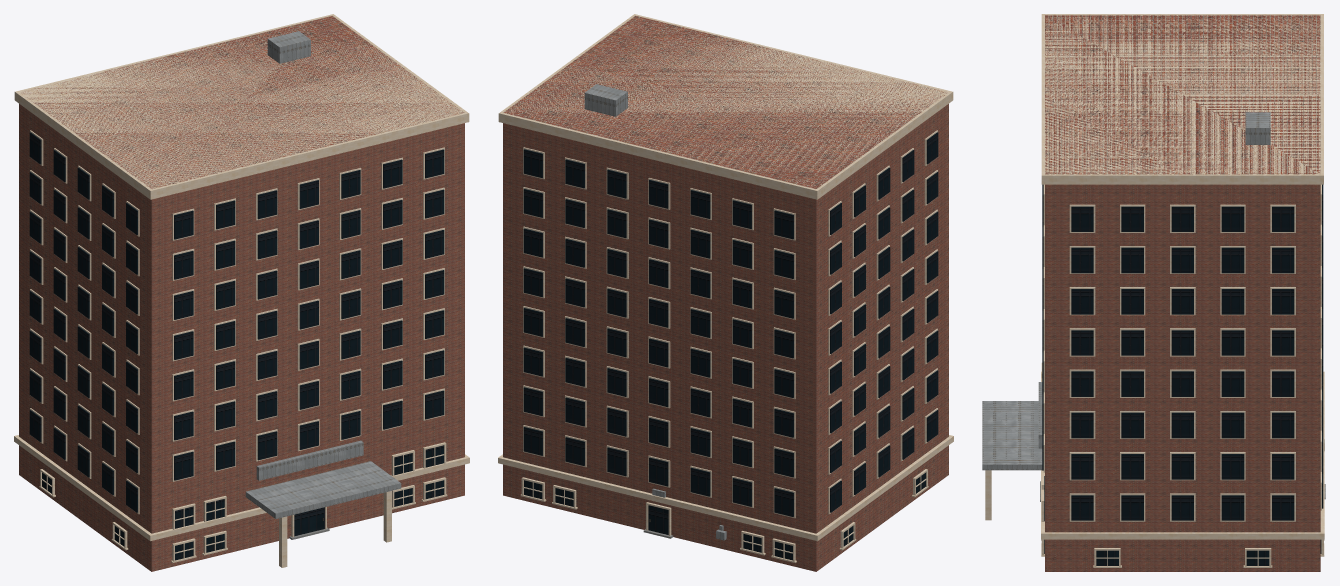
Rendered from larned-house-hotel_lod0.gltf.
3 views of the same model, side by side, from view 1: azimuth 30°, elevation 25°; view 2: azimuth 150°, elevation 25°; view 3: azimuth 270°, elevation 25° (orthographic). The views are drawn at different scales.
Visible parts, largest first — view 1: larned-house-hotel_main, larned-house-hotel__cornice, larned-house-hotel_fen_07-glass-curtain-blue_1_t, larned-house-hotel_fen_04-limestone_0, larned-house-hotel__porte_cochere, larned-house-hotel__trim_band, larned-house-hotel__sign_band, larned-house-hotel__hvac; view 2: larned-house-hotel_main, larned-house-hotel_fen_07-glass-curtain-blue_1_t, larned-house-hotel__cornice, larned-house-hotel_fen_04-limestone_0, larned-house-hotel__trim_band, larned-house-hotel__hvac; view 3: larned-house-hotel_main, larned-house-hotel__cornice, larned-house-hotel_fen_07-glass-curtain-blue_1_t, larned-house-hotel_fen_04-limestone_0, larned-house-hotel__porte_cochere, larned-house-hotel__trim_band, larned-house-hotel__hvac.
Boxes of the visible parts, x1,y1,x2,y2 form: larned-house-hotel_main: [19, 16, 464, 571]; larned-house-hotel__cornice: [14, 14, 469, 199]; larned-house-hotel_fen_07-glass-curtain-blue_1_t: [29, 132, 444, 560]; larned-house-hotel_fen_04-limestone_0: [30, 130, 447, 562]; larned-house-hotel__porte_cochere: [245, 461, 401, 518]; larned-house-hotel__trim_band: [14, 435, 469, 541]; larned-house-hotel__sign_band: [256, 440, 363, 480]; larned-house-hotel__hvac: [267, 31, 310, 63]; larned-house-hotel_main: [503, 16, 948, 571]; larned-house-hotel_fen_07-glass-curtain-blue_1_t: [523, 132, 938, 560]; larned-house-hotel__cornice: [498, 14, 953, 199]; larned-house-hotel_fen_04-limestone_0: [520, 130, 937, 562]; larned-house-hotel__trim_band: [498, 435, 953, 541]; larned-house-hotel__hvac: [584, 84, 627, 116]; larned-house-hotel_main: [1045, 15, 1320, 571]; larned-house-hotel__cornice: [1041, 14, 1323, 184]; larned-house-hotel_fen_07-glass-curtain-blue_1_t: [1042, 184, 1323, 565]; larned-house-hotel_fen_04-limestone_0: [1041, 184, 1324, 567]; larned-house-hotel__porte_cochere: [982, 401, 1042, 470]; larned-house-hotel__trim_band: [1041, 371, 1324, 539]; larned-house-hotel__hvac: [1245, 112, 1270, 144].
Bounding box in the file's own units: 30.6 × 36.5 × 27.4.
